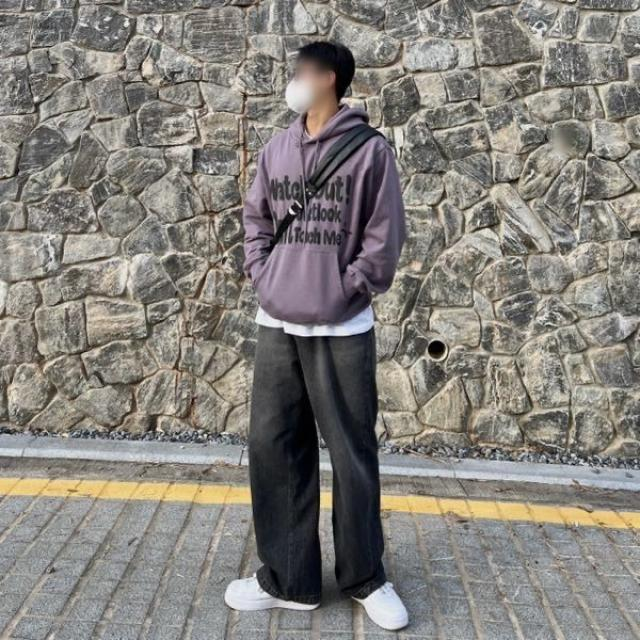denimpants: (248, 322, 389, 602)
hoodies: (248, 107, 412, 328)
